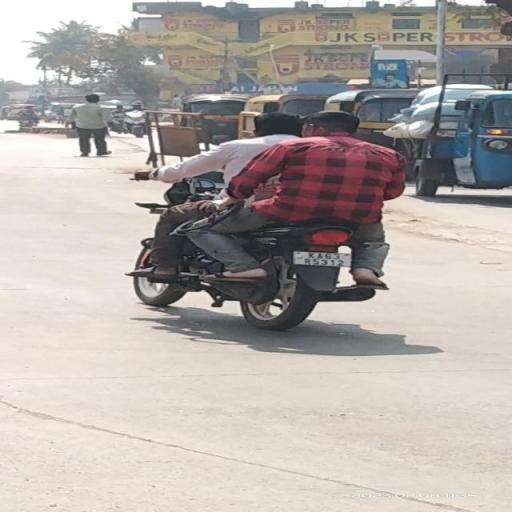bike: (125, 101, 415, 332)
numberplate: (293, 249, 351, 268)
withouthelmet: (306, 111, 357, 138), (254, 112, 302, 136)
